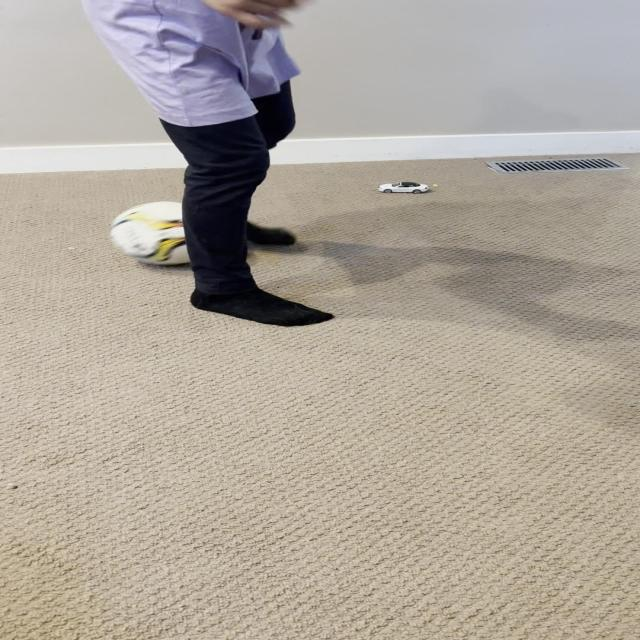Soccer Ball: (111, 202, 223, 264)
